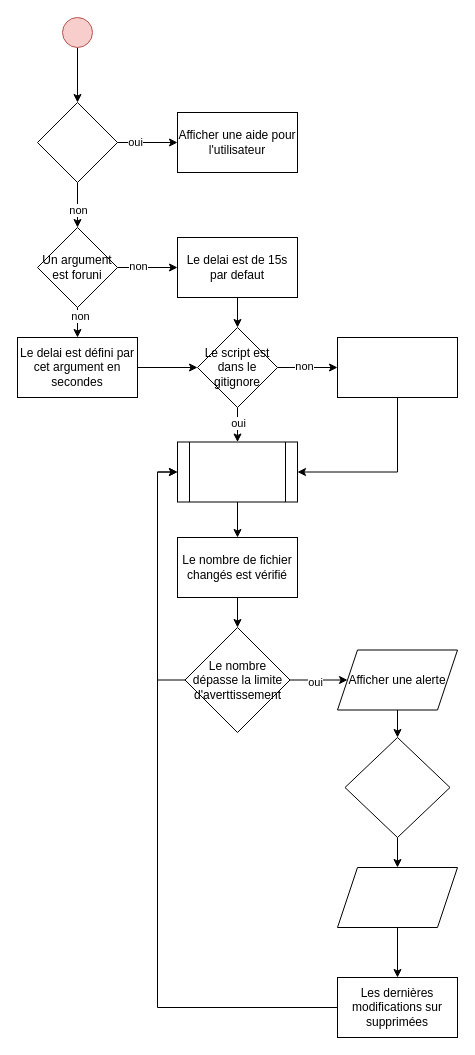
The diagram is 475 pixels wide and 1055 high, and some of its shapes have lost their labels. Here are the shapes that lost their labels. From the top down, the centre of each, then its label:
At pixel 77 142: "L'argument est -h".
At pixel 397 367: "Le script est ajouté au gitignore et poussé".
At pixel 237 471: "Le programme boucle sur le delai".
At pixel 397 787: "Le nombre dépasse la limite maximale".
At pixel 397 897: "Afficher un message de suppression".
